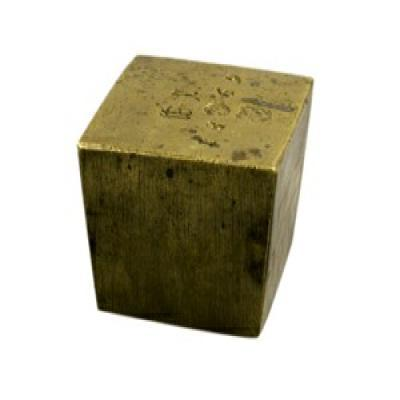technique: (76, 55, 315, 340)
